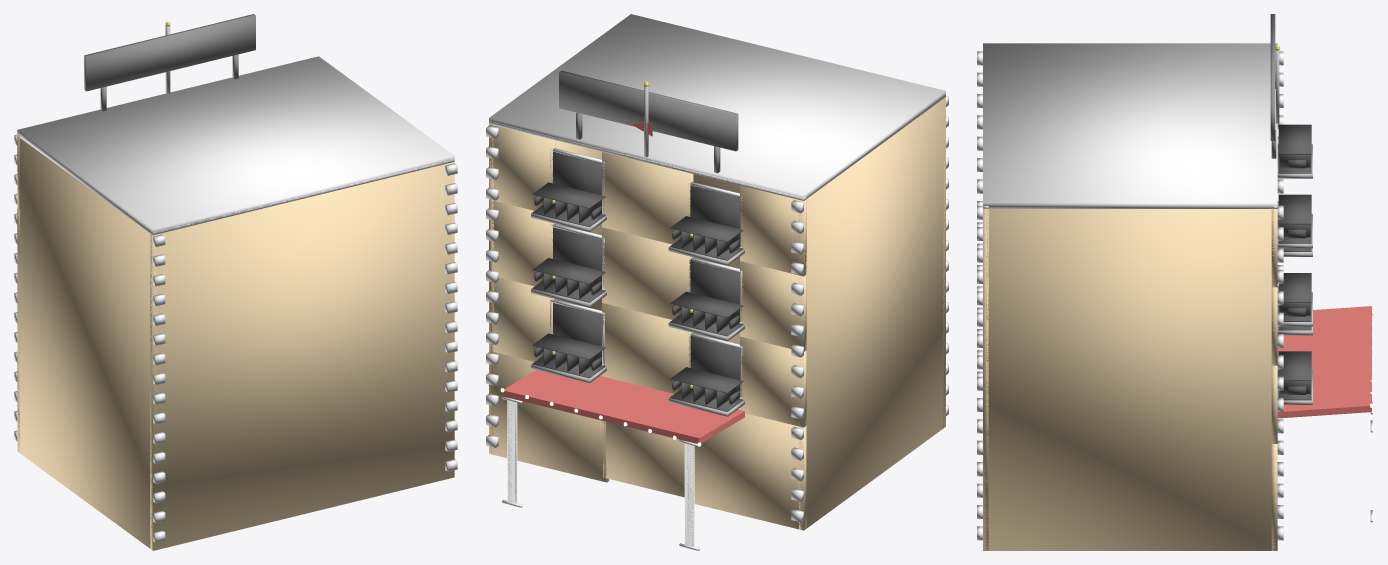
Rendered from Building_2_4.glb.
3 views of the same model, side by side, from view 1: azimuth 30°, elevation 25°; view 2: azimuth 150°, elevation 25°; view 3: azimuth 270°, elevation 25° (orthographic). The views are drawn at different scales.
Parts seen in each view (by area): view 1: Walls.Back, Walls.Left, Walls.Roof, Sign.Frame, Walls.Coping; view 2: Walls.Left, Walls.Roof, Walls.Front.Ground.L, Marquee, Walls.Front.Ground.R, Sign.Frame, Walls.Front.F2.M, Walls.Front.F1.M, Walls.Front.F0.M, Walls.Entrance.Recess, Walls.Front.F1.L, Walls.Front.F0.L (+21 smaller); view 3: Walls.Right, Walls.Roof, Marquee, Walls.Back, Balconies.F2_-0.70.RailT, Balconies.F2_0.70.RailT, Balconies.F0_0.70.RailT, Balconies.F1_0.70.RailT, Sign.Frame, Walls.Front.Ground.R, Walls.Front.F1.R, Walls.Front.F0.R (+1 smaller).
Part boxes in pixels (x1,y1,x2,y2): Walls.Back: [150, 162, 454, 550]; Walls.Left: [17, 137, 157, 549]; Walls.Roof: [17, 56, 454, 234]; Sign.Frame: [84, 14, 255, 91]; Walls.Coping: [150, 159, 454, 235]; Walls.Left: [799, 97, 945, 529]; Walls.Roof: [489, 14, 945, 200]; Walls.Front.Ground.L: [694, 409, 806, 530]; Marquee: [502, 370, 744, 443]; Walls.Front.Ground.R: [489, 351, 605, 482]; Sign.Frame: [559, 70, 738, 151]; Walls.Front.F2.M: [602, 152, 693, 244]; Walls.Front.F1.M: [602, 227, 693, 319]; Walls.Front.F0.M: [602, 303, 692, 393]; Walls.Entrance.Recess: [603, 421, 684, 497]; Walls.Front.F1.L: [740, 261, 806, 351]; Walls.Front.F0.L: [740, 336, 806, 427]; Walls.Right: [983, 209, 1277, 550]; Walls.Roof: [983, 43, 1277, 208]; Marquee: [1277, 306, 1371, 418]; Walls.Back: [983, 209, 988, 550]; Balconies.F2_-0.70.RailT: [1278, 124, 1311, 154]; Balconies.F2_0.70.RailT: [1278, 194, 1311, 224]; Balconies.F0_0.70.RailT: [1278, 351, 1311, 380]; Balconies.F1_0.70.RailT: [1278, 273, 1311, 302]; Sign.Frame: [1270, 14, 1275, 140]; Walls.Front.Ground.R: [1271, 444, 1277, 550]; Walls.Front.F1.R: [1271, 287, 1277, 365]; Walls.Front.F0.R: [1271, 365, 1277, 443].
Size of the model in its own units: 3.2 by 3.99 by 3.37.
